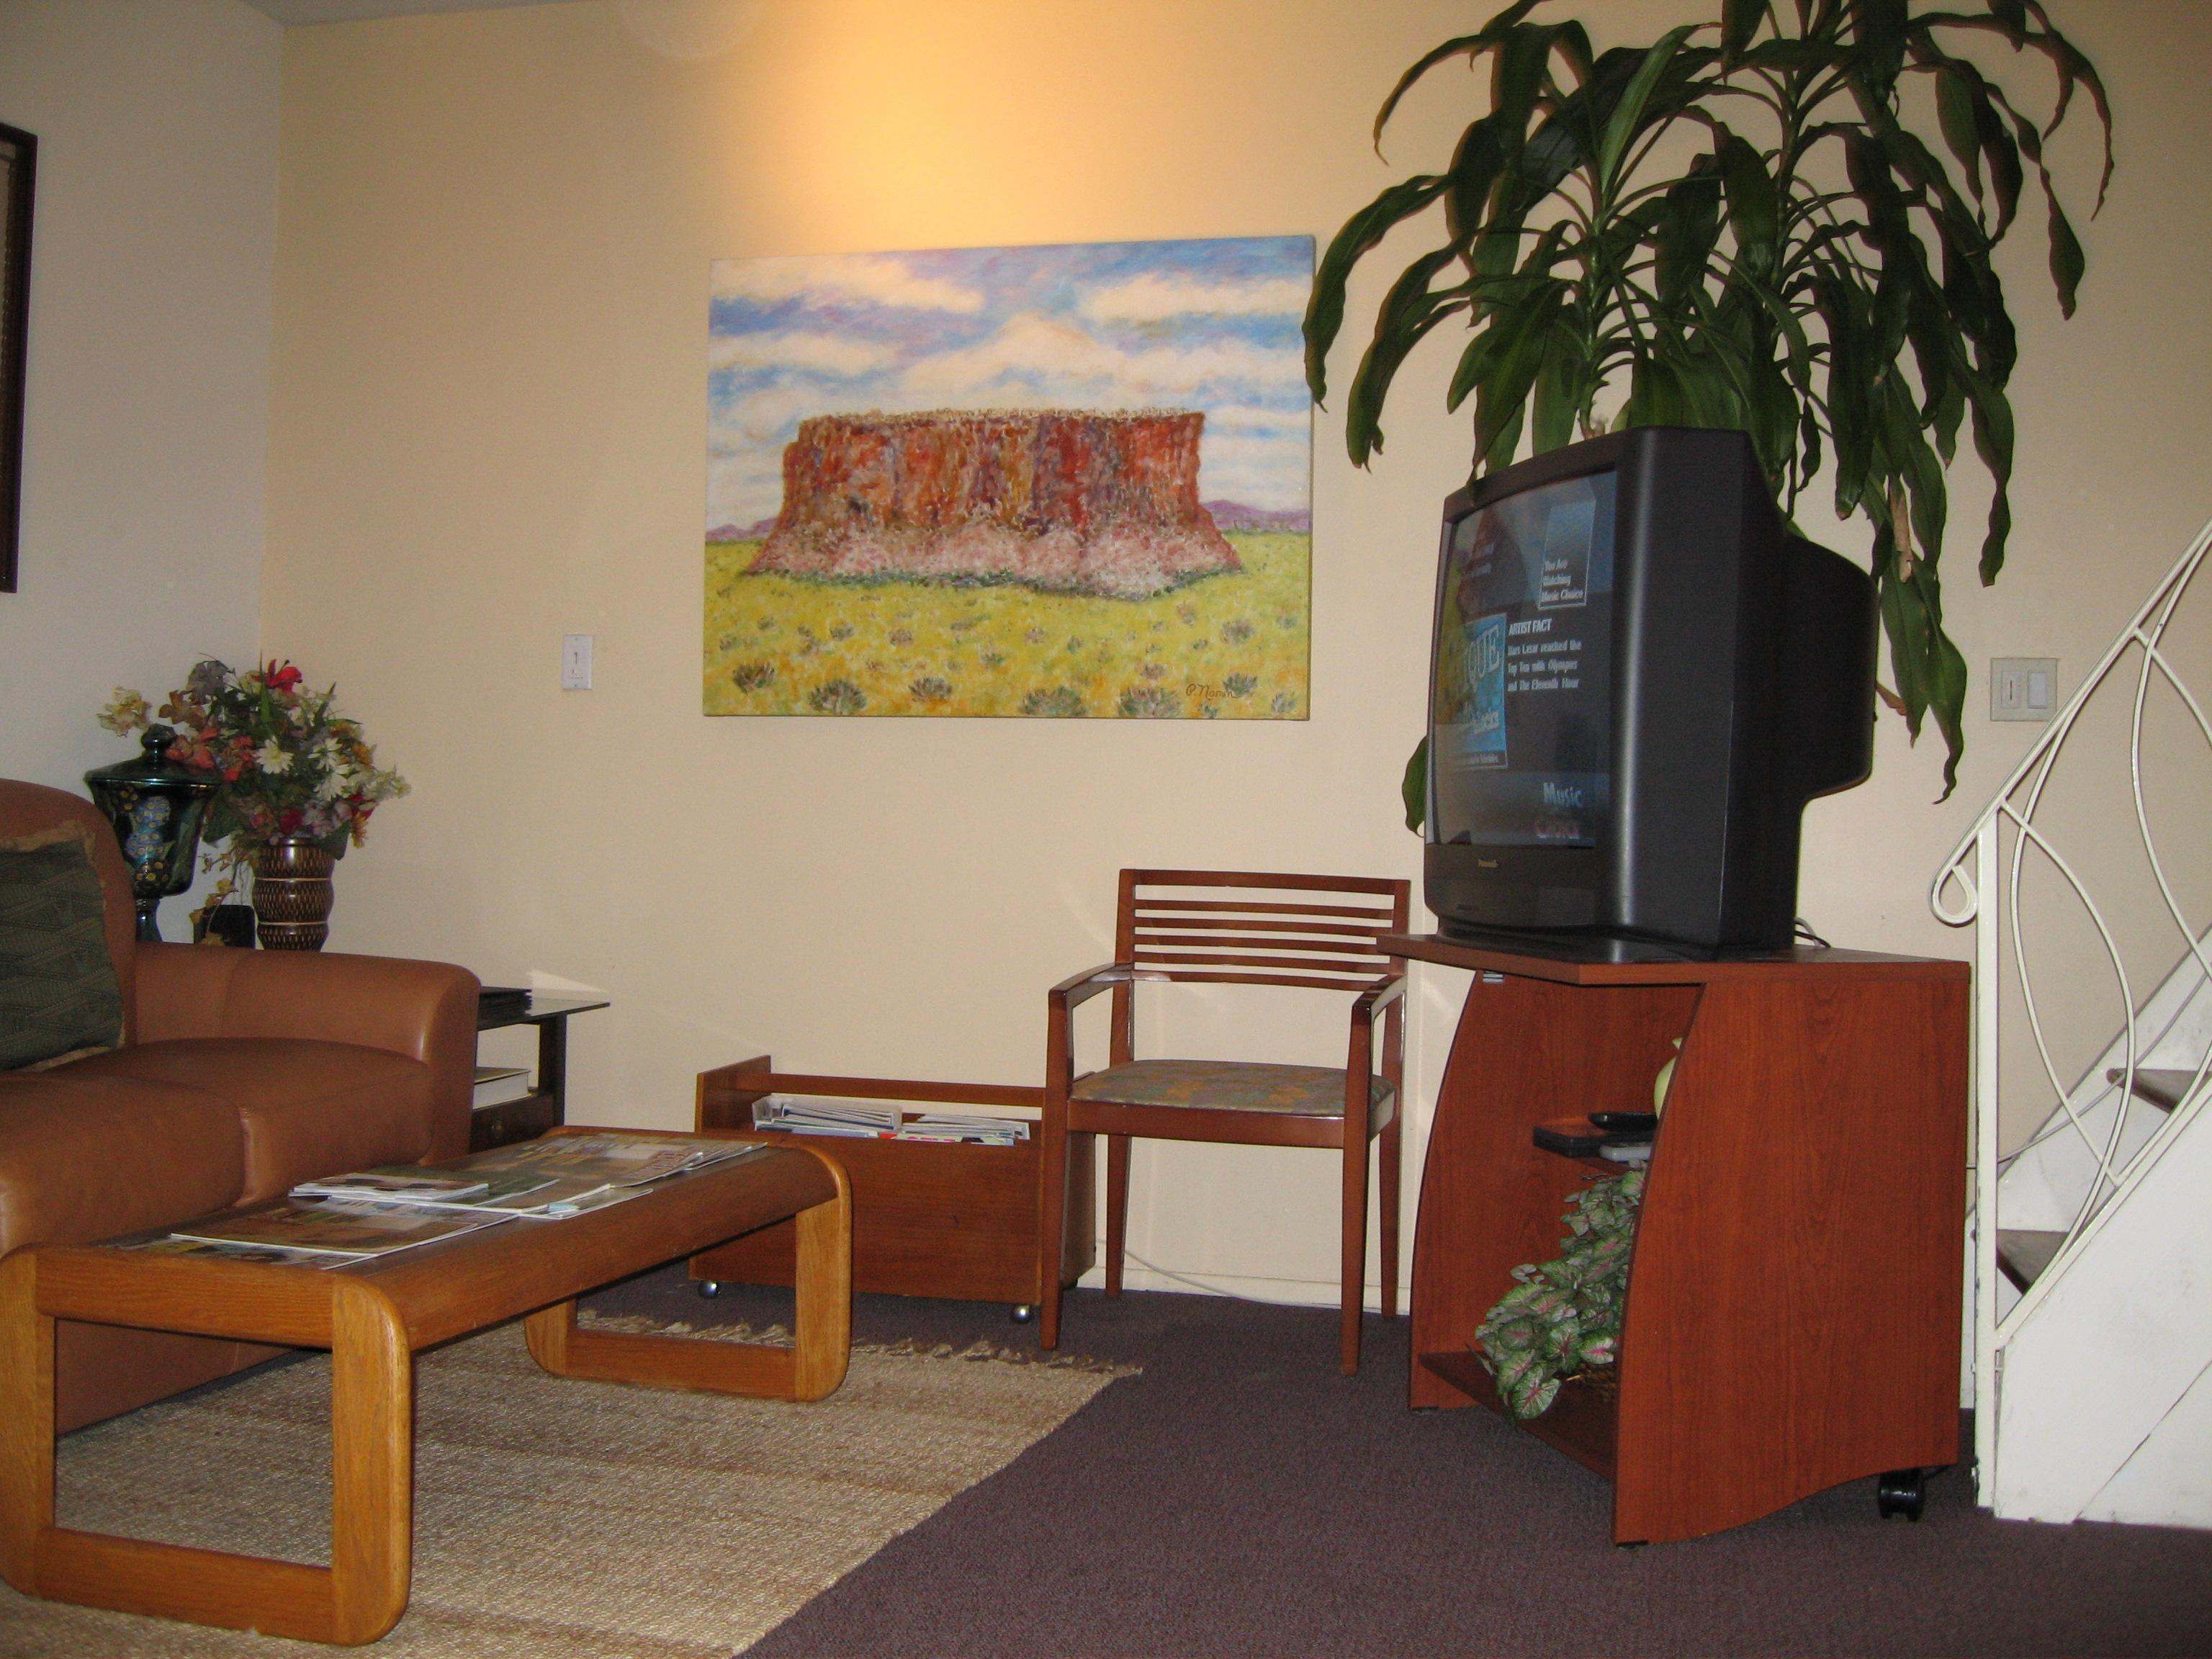Escaleras: (1959, 592, 2212, 1546)
